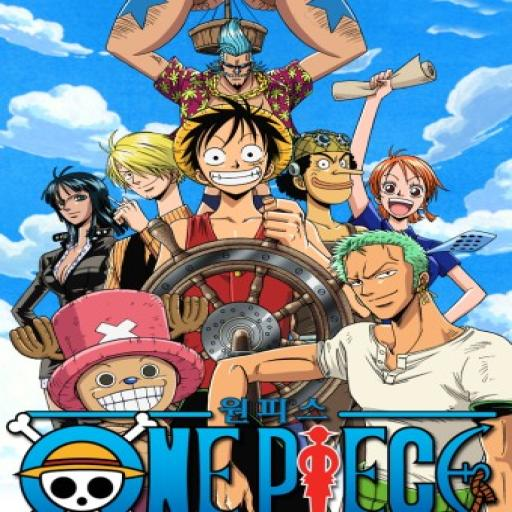Luffy: (164, 91, 308, 211)
Nami: (361, 136, 454, 224)
NicoRobin: (27, 165, 115, 230)
Usopp: (283, 128, 376, 214)
Zoro: (325, 219, 455, 349)
sanji: (93, 125, 188, 209)
